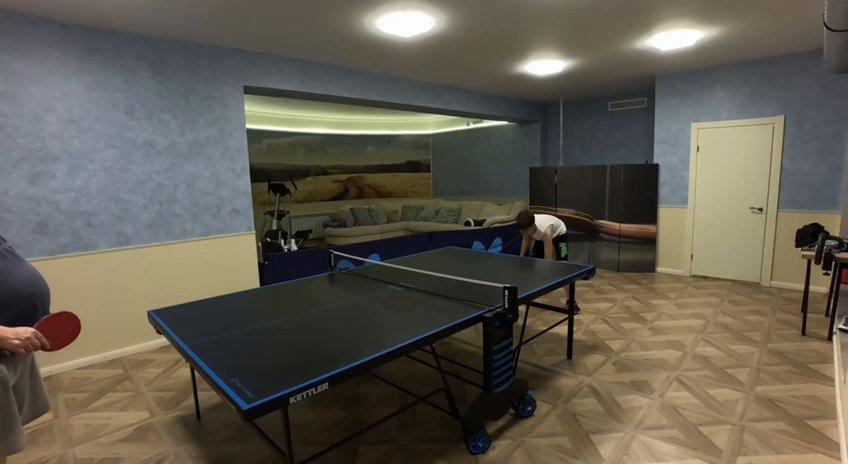Net: (327, 251, 515, 308)
Player1: (518, 210, 571, 261)
Player2: (0, 235, 50, 448)
Table: (149, 247, 594, 409)
